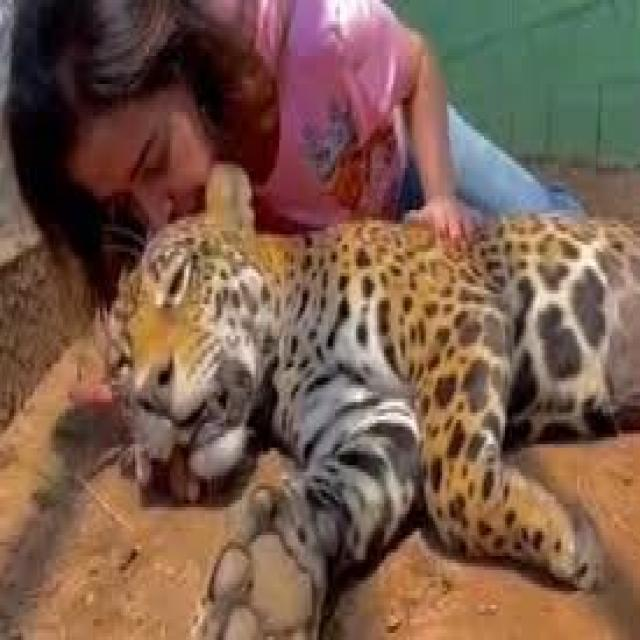Jaguar: (107, 161, 640, 640)
